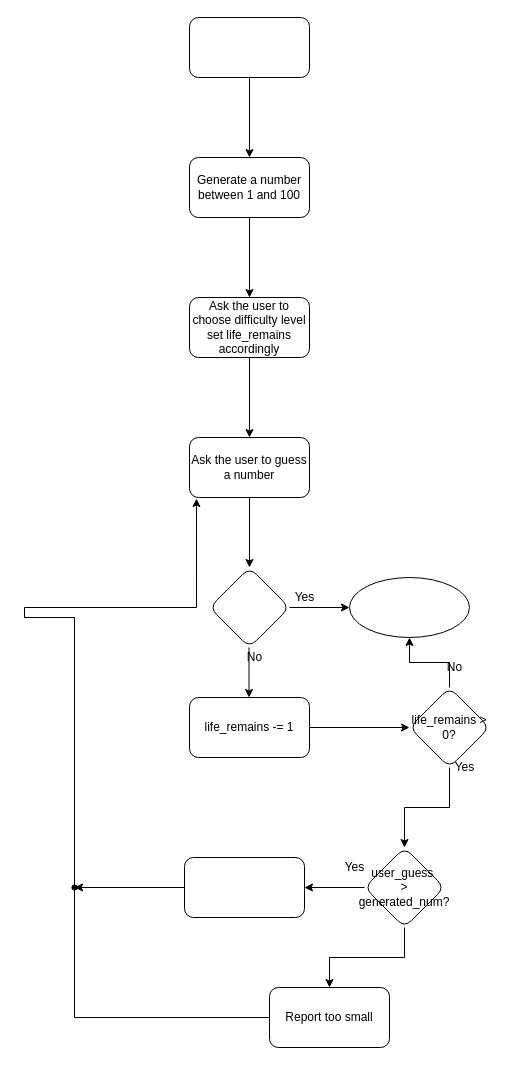
The diagram is 507 pixels wide and 1065 high, and some of its shapes have lost their labels. Each missing label, with the centre of its shape:
"Game Over" goes at point (409, 607).
"Game Start" goes at point (249, 47).
"Report too large" goes at point (244, 887).
"user_guess equals generated_num?" goes at point (249, 607).
